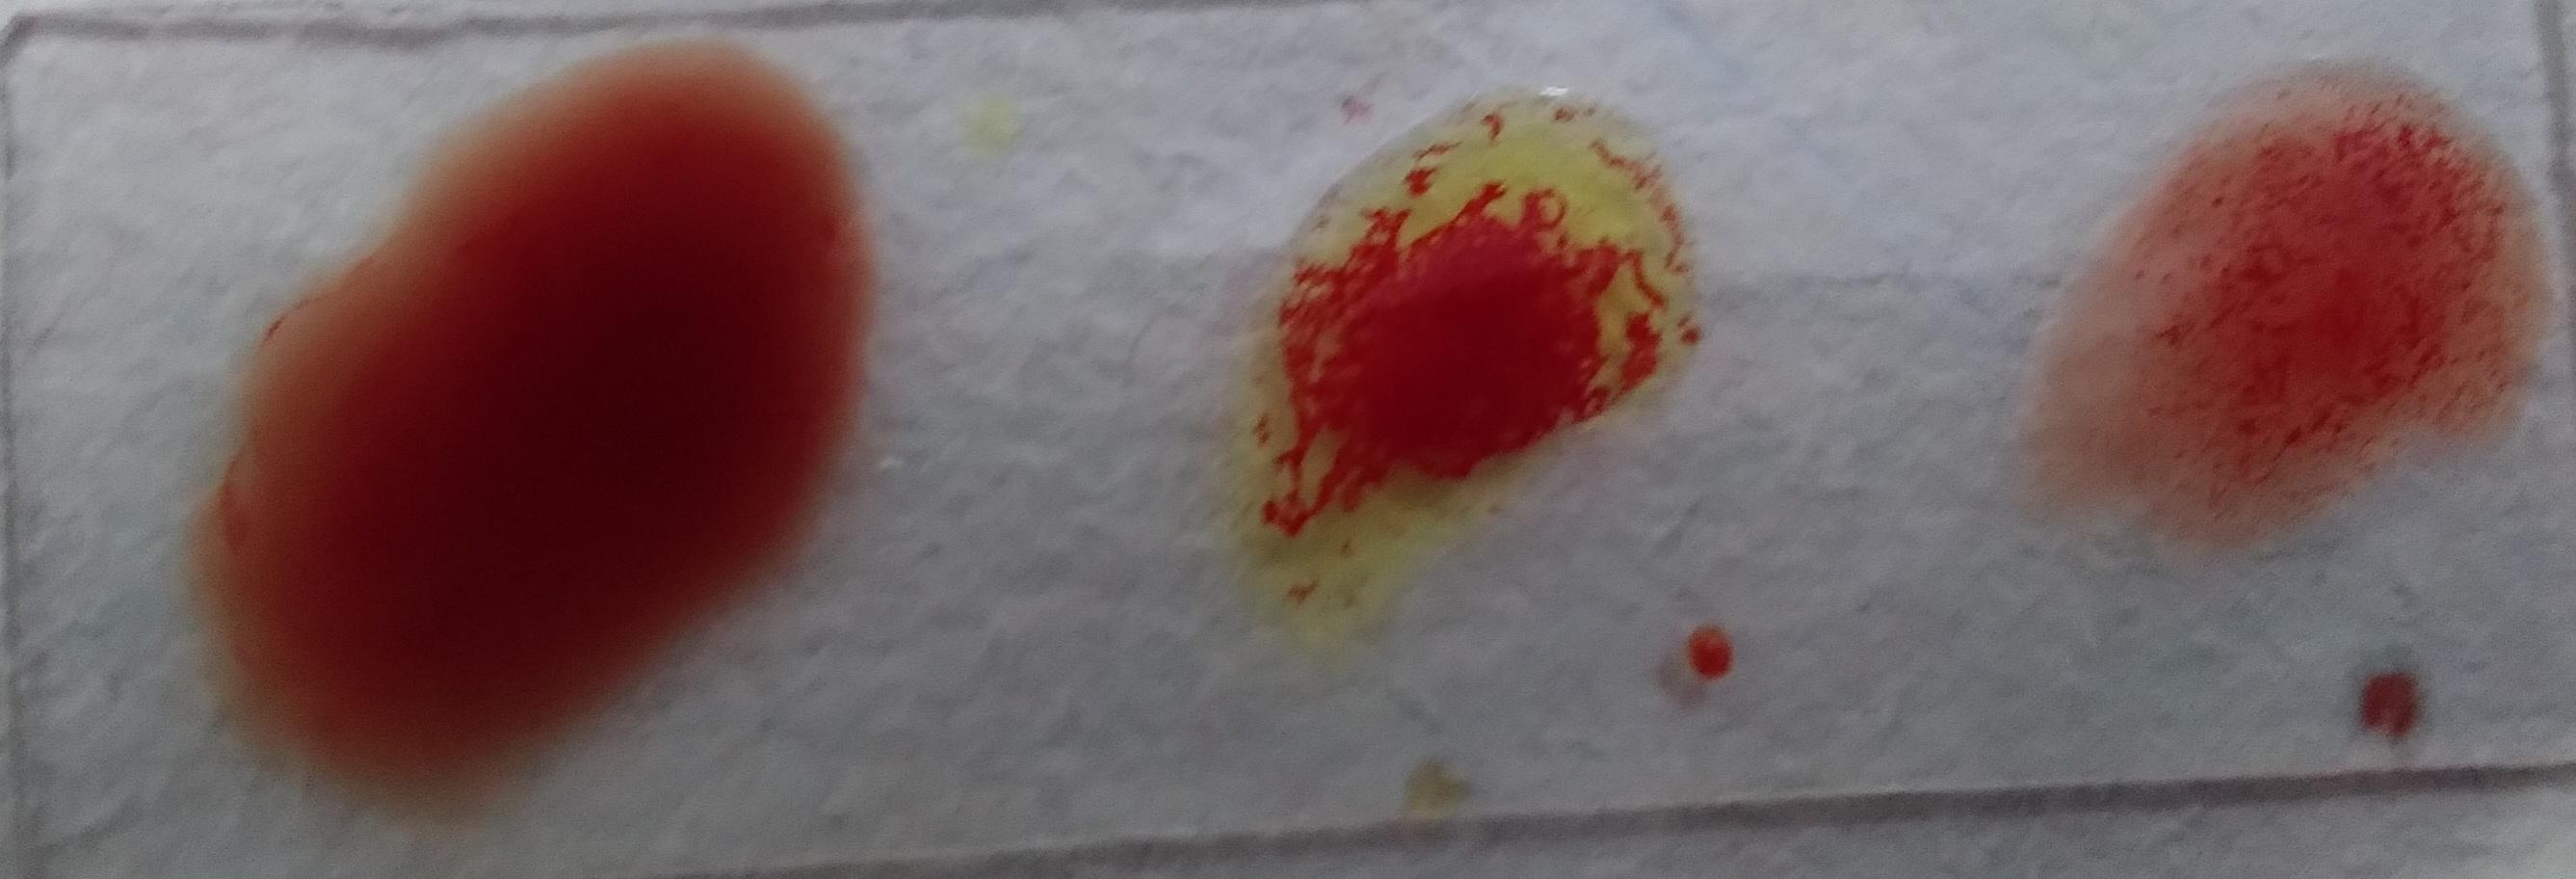B: (884, 217, 1342, 792)
D: (10, 324, 539, 810)
